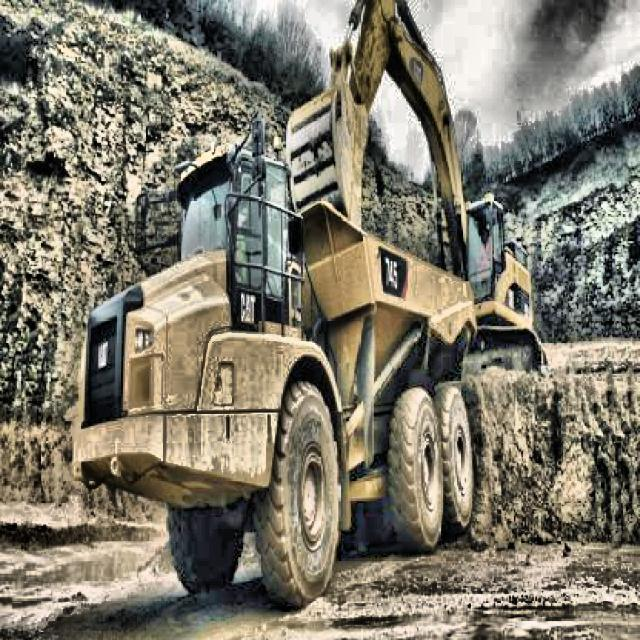dump_truck: (51, 105, 486, 573)
excavator: (282, 2, 556, 393)
